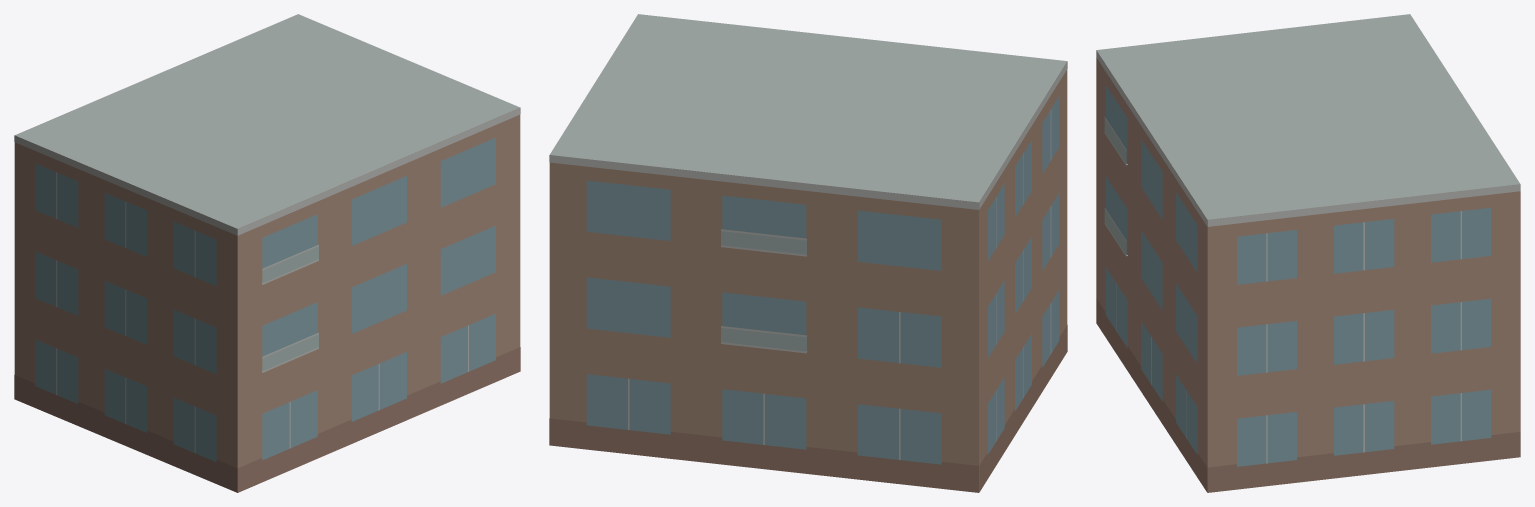
The model's file is survey-upis-32704108.glb.
3 renders of one model, left to right at view 1: azimuth 30°, elevation 25°; view 2: azimuth 150°, elevation 25°; view 3: azimuth 270°, elevation 25°, orthographic. The views are drawn at different scales.
Visible parts, largest first — view 1: survey-upis-32704108.tmp; view 2: survey-upis-32704108.tmp; view 3: survey-upis-32704108.tmp.
Part boxes in pixels (x1=…): survey-upis-32704108.tmp: x1=14, y1=14, x2=520, y2=492; survey-upis-32704108.tmp: x1=549, y1=14, x2=1067, y2=492; survey-upis-32704108.tmp: x1=1096, y1=14, x2=1520, y2=492.
Bounding box in the file's own units: 15.21 × 9.4 × 13.25.
